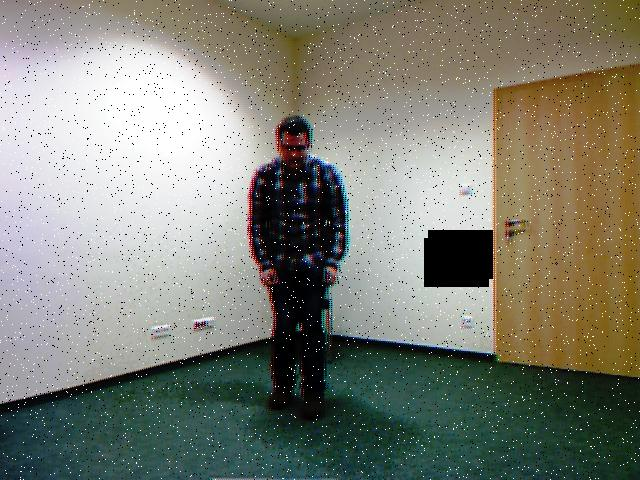standing: (239, 99, 356, 433)
